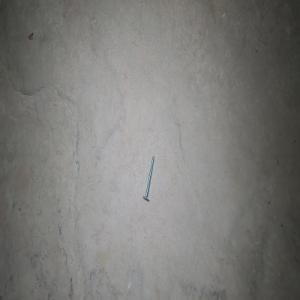Bolt: (142, 155, 154, 201)
